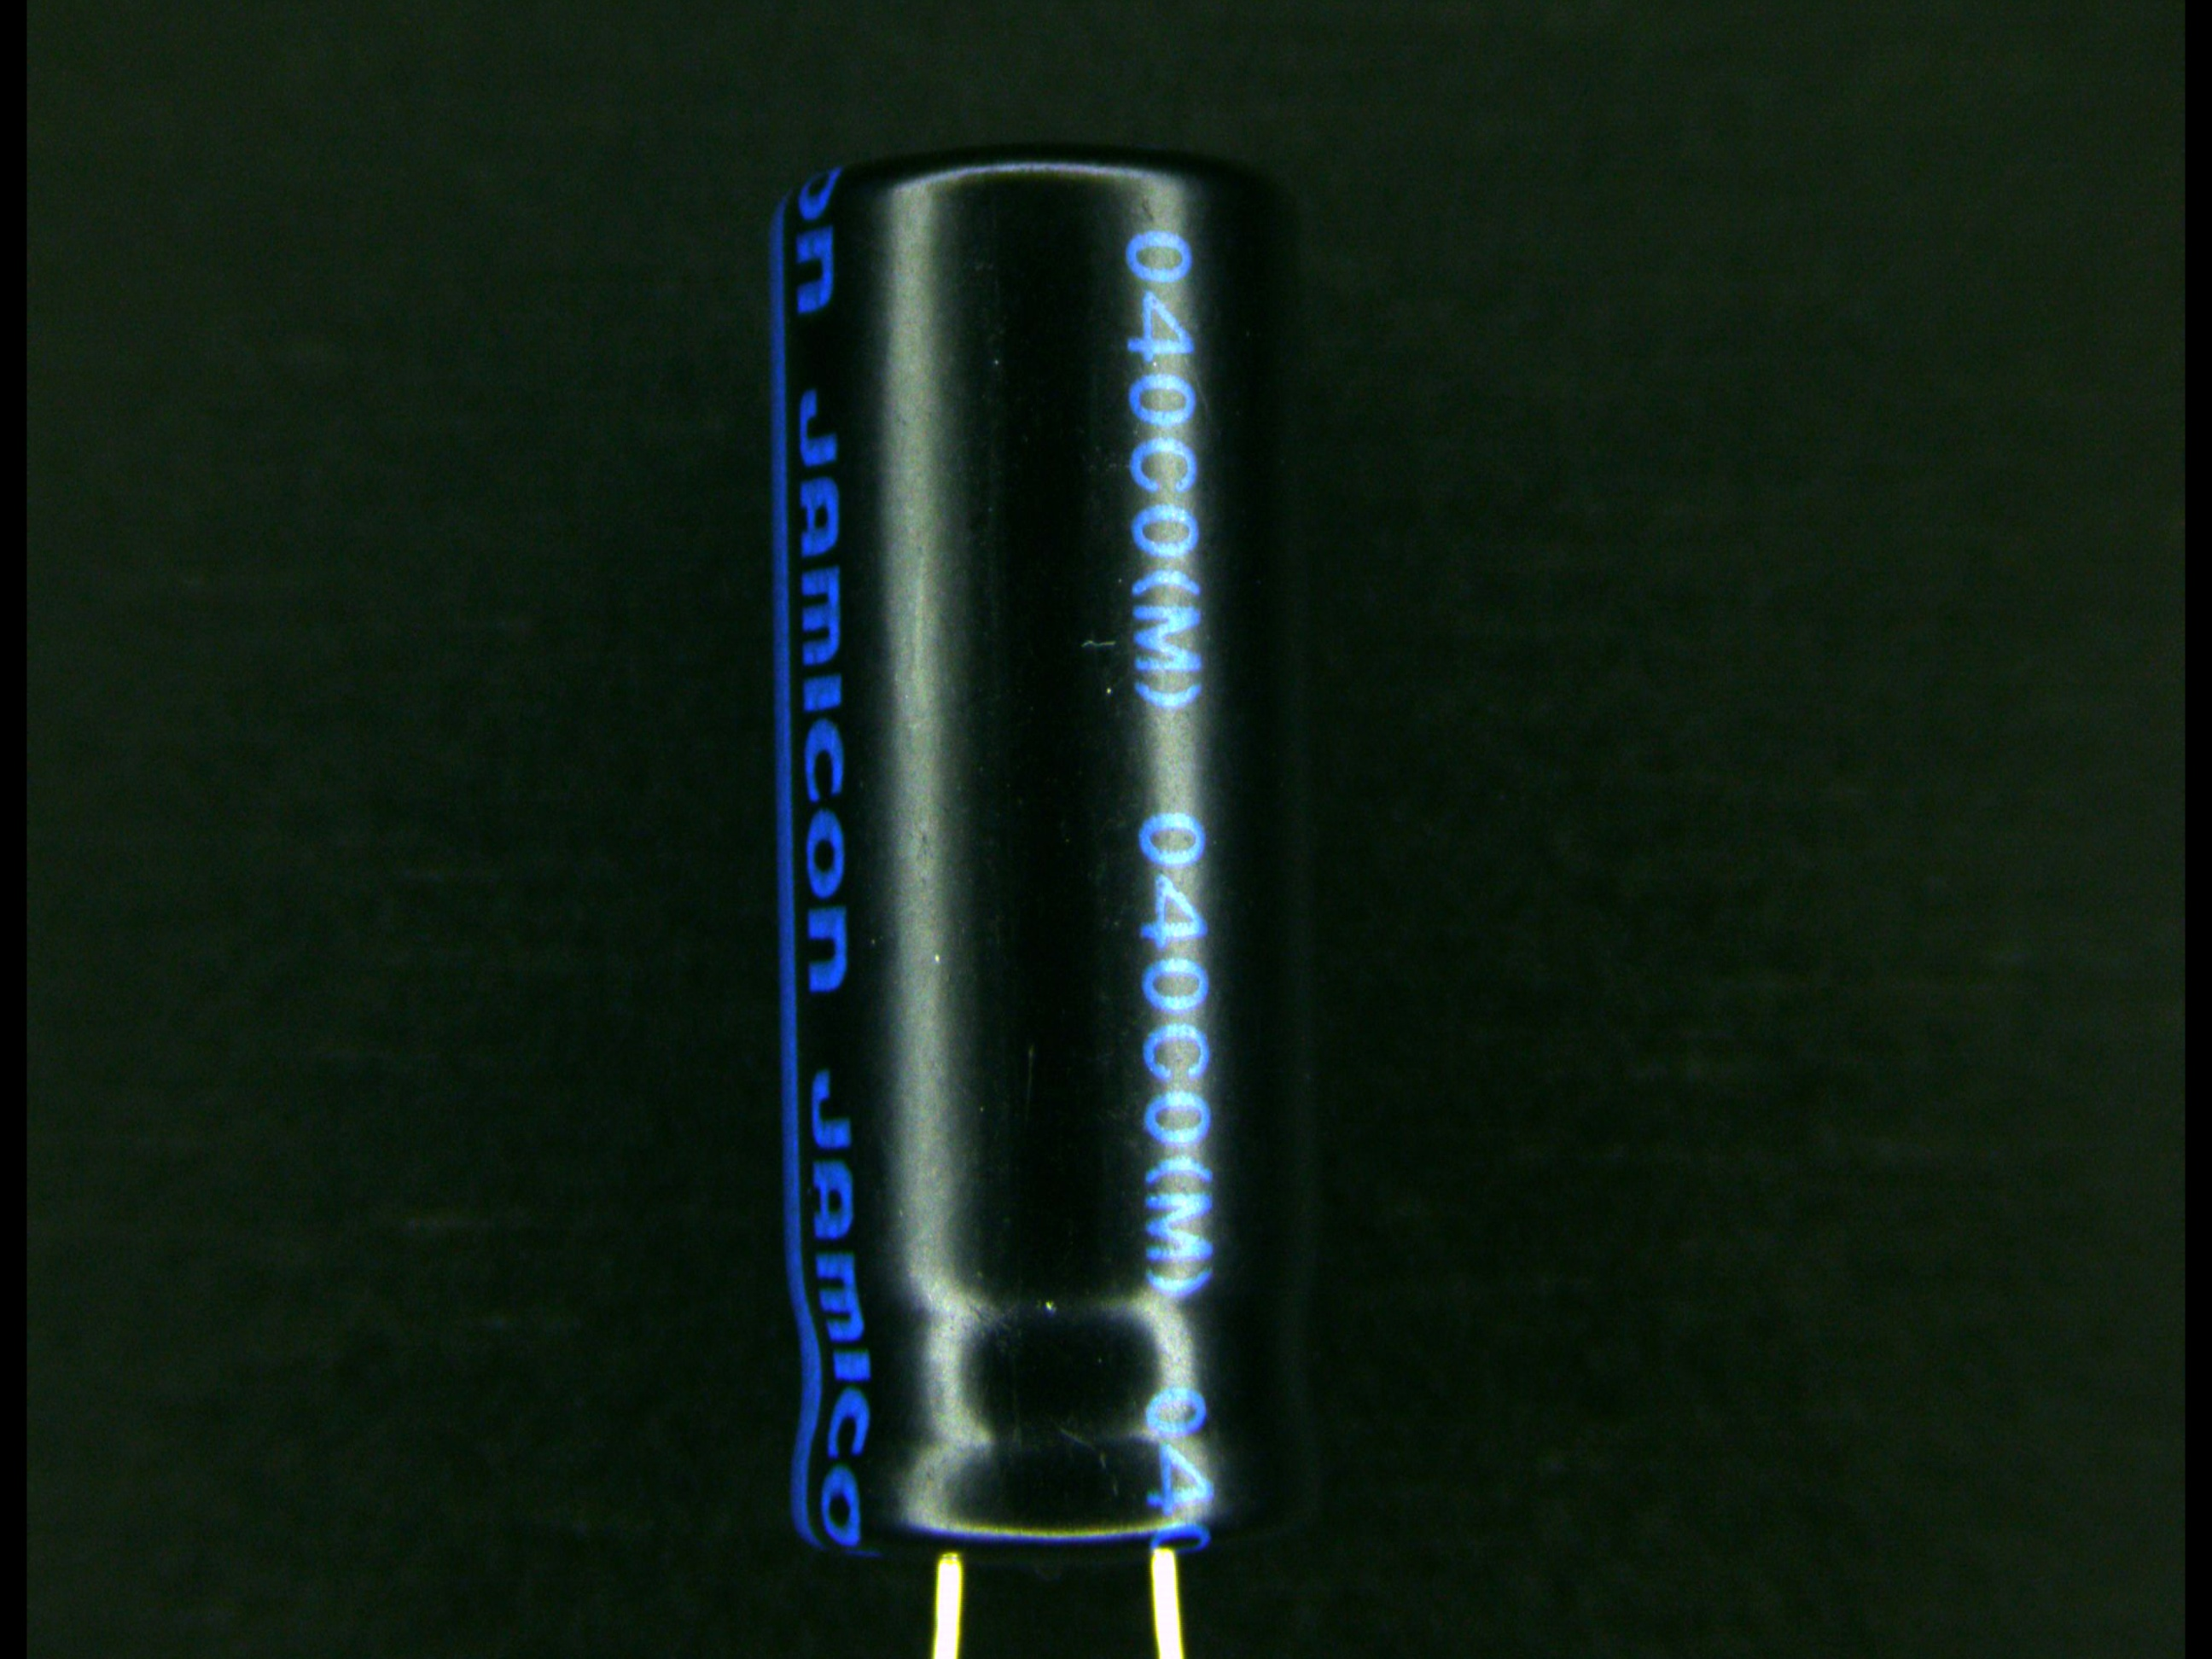c2: (763, 139, 1322, 1647)
